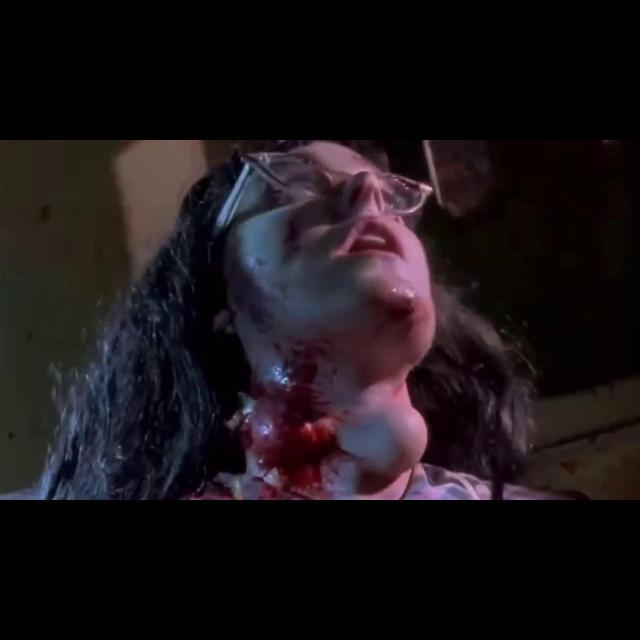blood: (242, 340, 356, 500), (365, 293, 428, 326)
